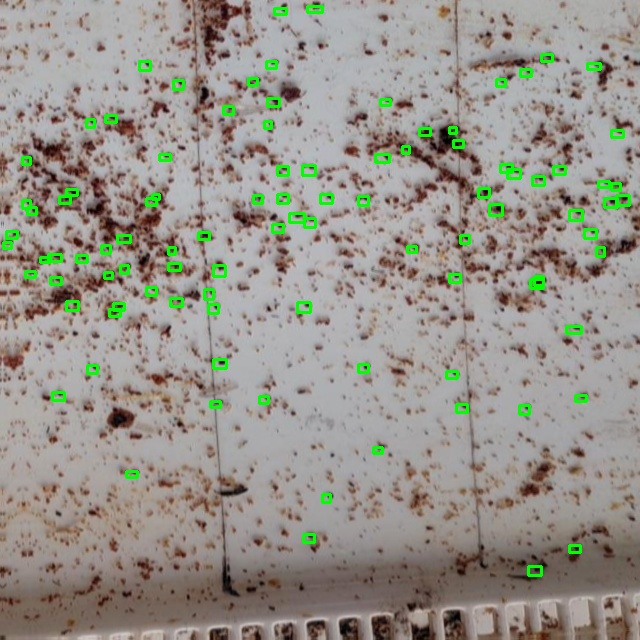varroa: (489, 204, 502, 215), (289, 213, 304, 222), (213, 265, 225, 276), (297, 302, 310, 312), (616, 195, 629, 205), (569, 210, 582, 220), (302, 165, 315, 175), (528, 566, 541, 575), (213, 359, 226, 368), (530, 279, 543, 288), (604, 198, 617, 207), (507, 169, 520, 178), (375, 154, 389, 162), (584, 229, 596, 238), (532, 176, 544, 185), (320, 194, 332, 203), (66, 301, 78, 310), (566, 326, 581, 333), (478, 188, 489, 197), (277, 194, 288, 203), (304, 218, 315, 227), (277, 166, 288, 175), (139, 61, 150, 70), (52, 392, 64, 400), (170, 298, 182, 306), (500, 164, 512, 172), (553, 166, 565, 174), (267, 98, 279, 106), (117, 235, 130, 242), (48, 254, 61, 261), (519, 405, 529, 414), (208, 304, 218, 313), (204, 289, 213, 299), (358, 196, 368, 205), (307, 6, 322, 12), (173, 80, 183, 89), (303, 534, 314, 542), (456, 404, 467, 412), (449, 274, 460, 282), (272, 224, 283, 232), (168, 263, 180, 270), (611, 130, 623, 137), (534, 276, 543, 285), (358, 364, 368, 372), (87, 365, 97, 373), (146, 287, 156, 295), (223, 106, 233, 114), (587, 63, 600, 69), (569, 545, 580, 552), (446, 371, 457, 378), (109, 309, 120, 316), (113, 303, 124, 310), (198, 232, 209, 239), (76, 255, 87, 262), (50, 277, 61, 284), (6, 231, 17, 238), (59, 196, 70, 203), (419, 128, 430, 135), (520, 69, 531, 76), (541, 54, 552, 61), (105, 115, 116, 122), (596, 247, 604, 256), (253, 195, 262, 203), (101, 245, 110, 253), (460, 235, 469, 243), (274, 8, 286, 14), (146, 198, 156, 205), (453, 140, 463, 147), (266, 61, 276, 68), (575, 395, 586, 401), (66, 189, 77, 195), (598, 181, 609, 187), (159, 154, 170, 160), (126, 471, 137, 477), (322, 494, 330, 502), (120, 265, 128, 273), (22, 200, 30, 208), (86, 119, 94, 127), (27, 207, 36, 214), (611, 183, 620, 190), (496, 79, 505, 86), (248, 78, 257, 85), (259, 396, 268, 403), (25, 271, 35, 277), (380, 99, 390, 105), (210, 401, 220, 407), (22, 157, 30, 164), (407, 246, 416, 252), (373, 447, 382, 453), (40, 257, 50, 262), (168, 247, 175, 254), (402, 146, 409, 153), (264, 121, 271, 128), (104, 272, 112, 278), (3, 242, 11, 248), (449, 127, 456, 133), (152, 194, 159, 199)
